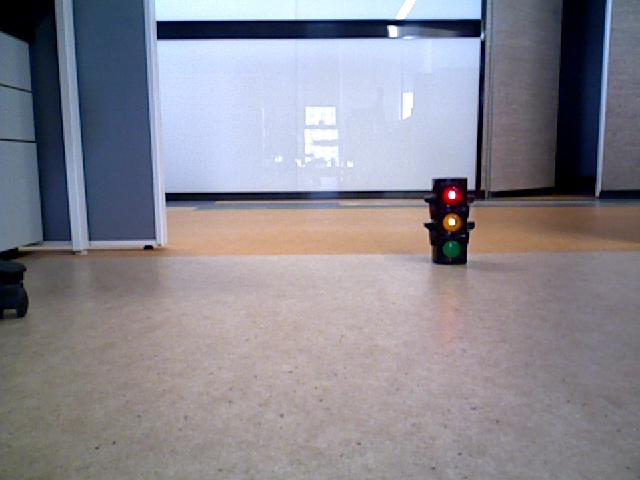red: (432, 182, 466, 262)
